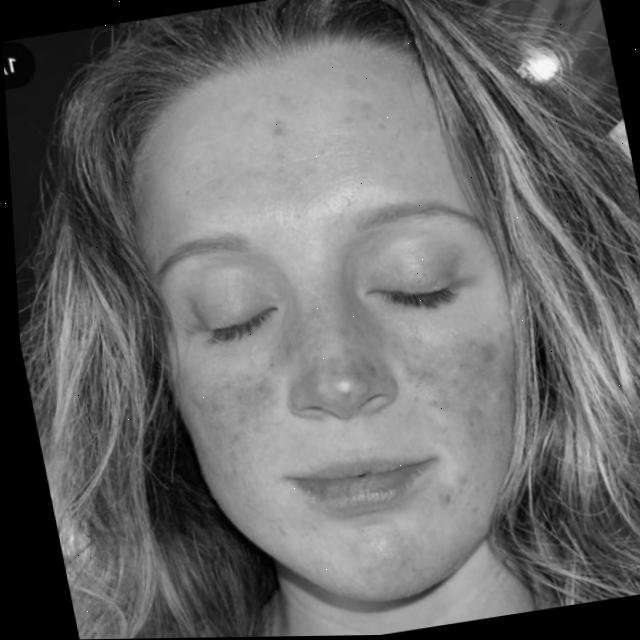Rosacea: (397, 316, 532, 496), (163, 347, 310, 510), (244, 58, 396, 170), (335, 521, 431, 605), (312, 320, 380, 409)
